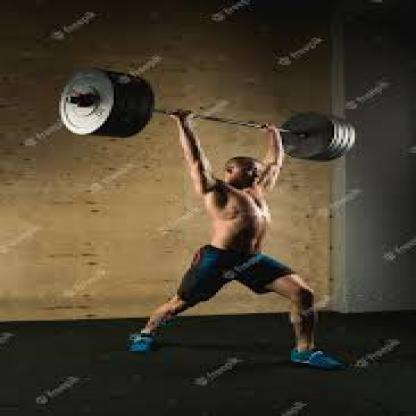Barbell: (53, 66, 137, 140)
